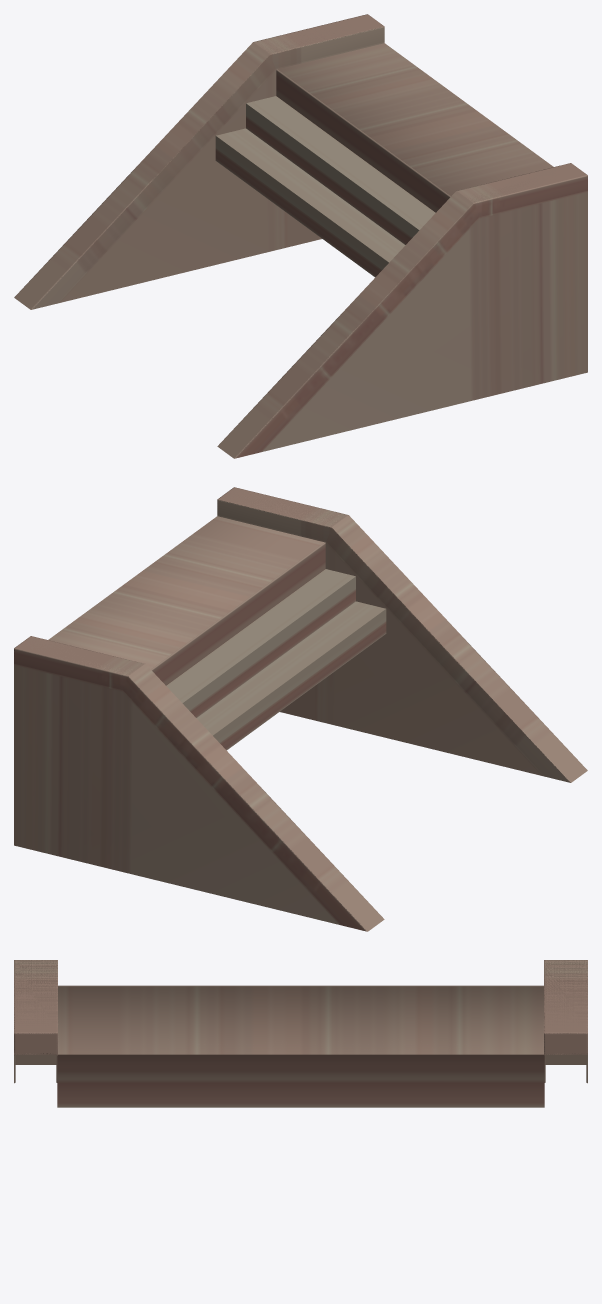
The model's file is objects_un_c03buildporch02.gltf.
3 views of the same model, one above another, from view 1: azimuth 30°, elevation 25°; view 2: azimuth 150°, elevation 25°; view 3: azimuth 270°, elevation 25° (orthographic). The views are drawn at different scales.
Parts seen in each view (by area): view 1: um_objects_un_c03buildporch2_model_lod0Shape:objects_un_c03b (×2), um_objects_un_c03buildporch2_model_lod1Shape:objects_un_c03b, um_objects_un_c03buildporch2_model_lod2Shape:objects_un_c03b; view 2: um_objects_un_c03buildporch2_model_lod0Shape:objects_un_c03b (×2), um_objects_un_c03buildporch2_model_lod1Shape:objects_un_c03b, um_objects_un_c03buildporch2_model_lod2Shape:objects_un_c03b; view 3: um_objects_un_c03buildporch2_model_lod1Shape:objects_un_c03b, um_objects_un_c03buildporch2_model_lod0Shape:objects_un_c03b.
Part boxes in pixels (bbox=[...]): um_objects_un_c03buildporch2_model_lod0Shape:objects_un_c03b (×2): bbox=[14, 14, 587, 458]; um_objects_un_c03buildporch2_model_lod1Shape:objects_un_c03b: bbox=[14, 15, 587, 458]; um_objects_un_c03buildporch2_model_lod2Shape:objects_un_c03b: bbox=[33, 27, 587, 454]; um_objects_un_c03buildporch2_model_lod0Shape:objects_un_c03b (×2): bbox=[14, 487, 587, 931]; um_objects_un_c03buildporch2_model_lod1Shape:objects_un_c03b: bbox=[14, 487, 587, 931]; um_objects_un_c03buildporch2_model_lod2Shape:objects_un_c03b: bbox=[14, 500, 544, 925]; um_objects_un_c03buildporch2_model_lod1Shape:objects_un_c03b: bbox=[14, 960, 587, 1107]; um_objects_un_c03buildporch2_model_lod0Shape:objects_un_c03b: bbox=[14, 960, 587, 1083].
Bounding box in the file's own units: 3.62 × 1.93 × 3.91.
2 materials, 2 textured.
